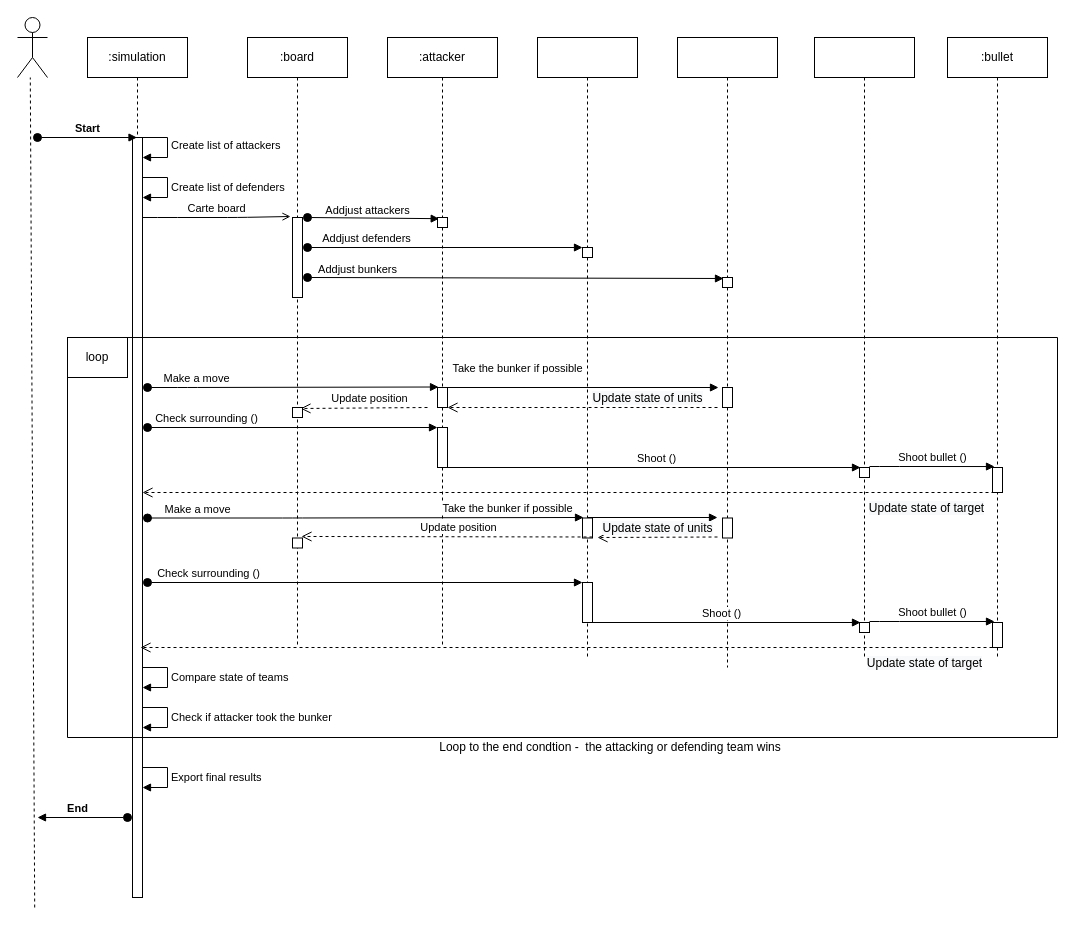
Image size: 1076x926. Some labels were removed from this diagram. The box of each missing label's shape, as (x1, y1, x2, y2) in pixels:
:bunker: (676, 36, 778, 668)
:defender: (536, 36, 638, 658)
:rifle: (814, 36, 914, 658)
